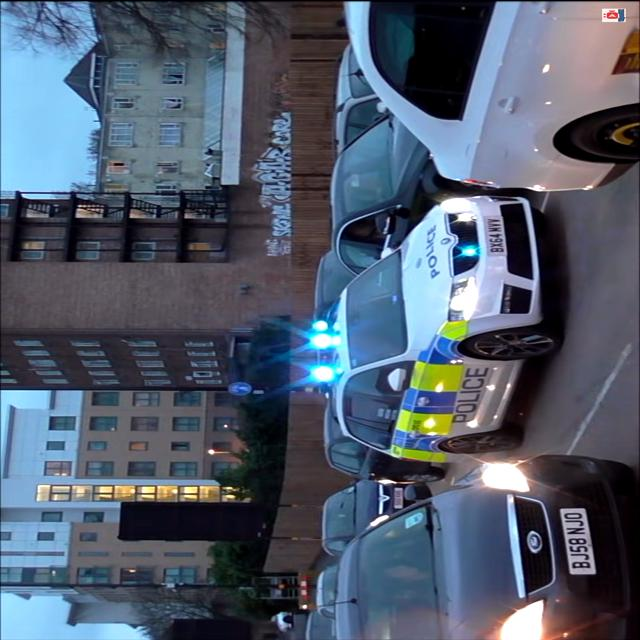emergency-vehicles: (300, 190, 562, 472)
